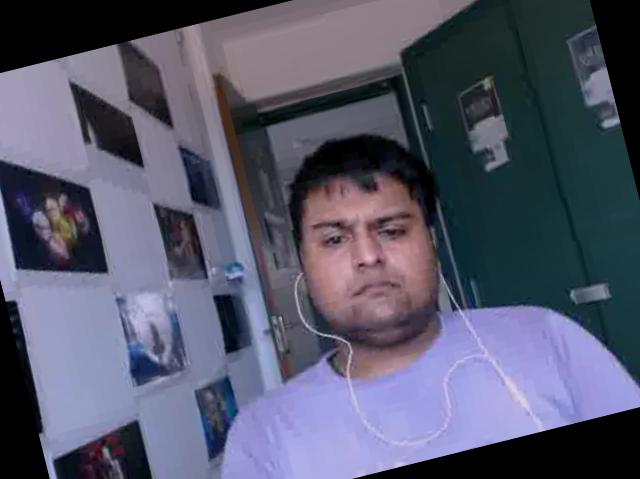bingung: (287, 158, 443, 341)
